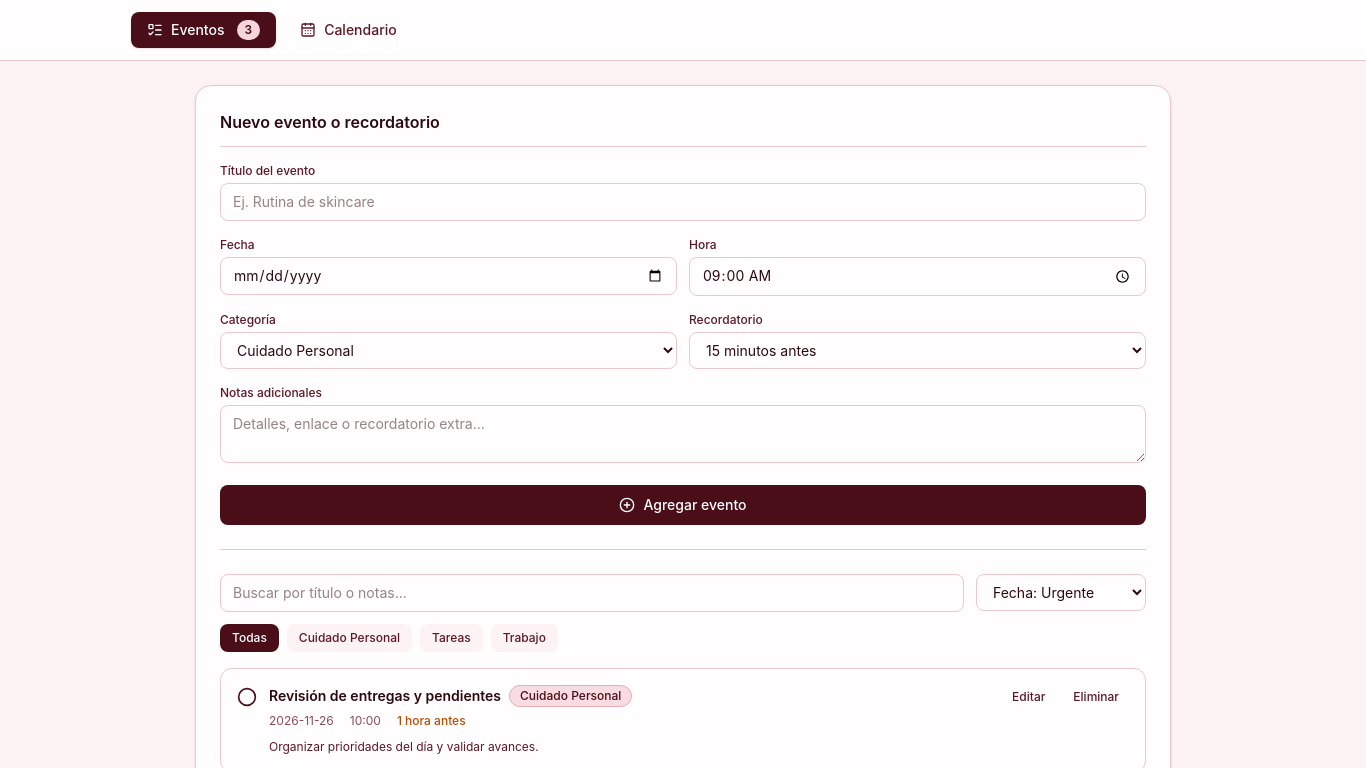
Test case: Aplicación de Gestión de Eventos › permite navegar a la vista de Calendario
The image size is (1366, 768).
Click the link "Calendario" at (348, 30), box [300,21,397,38]
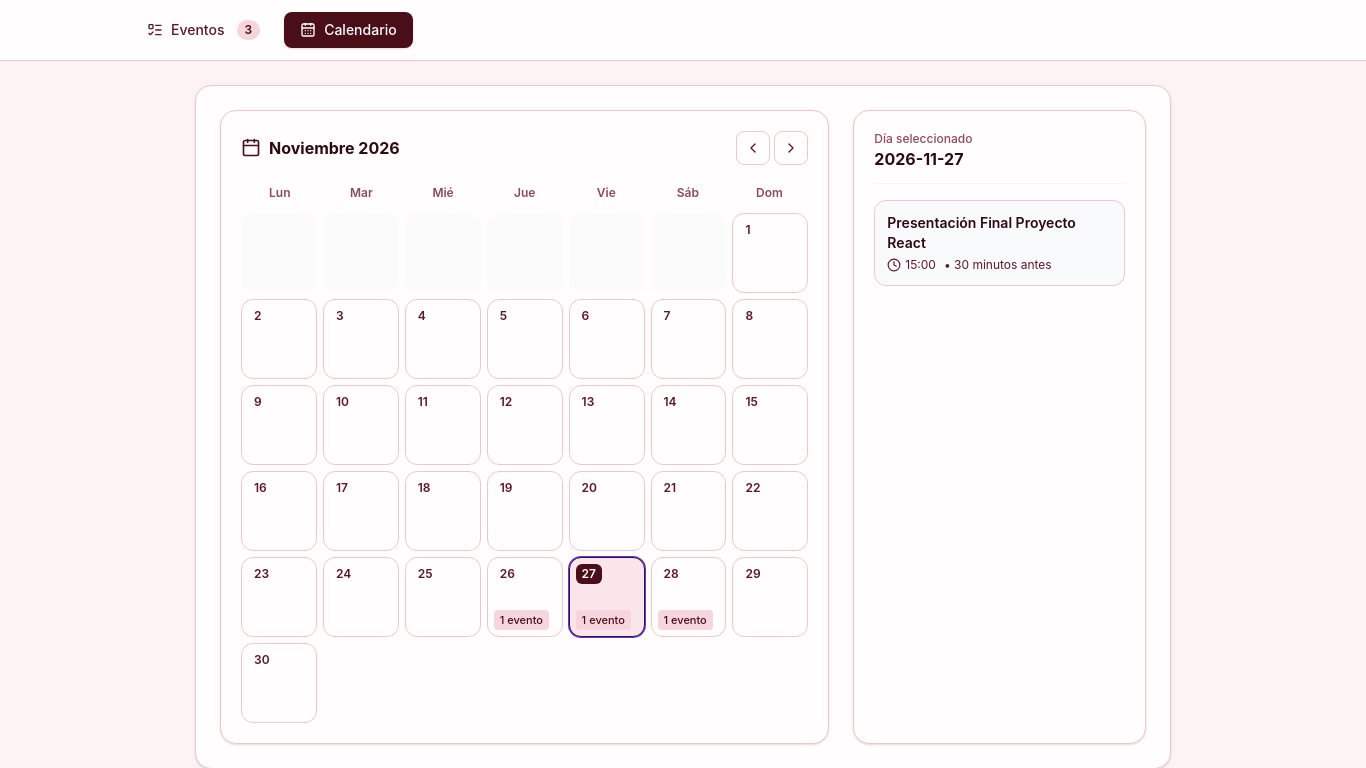
Expected: the heading "Noviembre 2026" is shown, [269,136,400,160]
